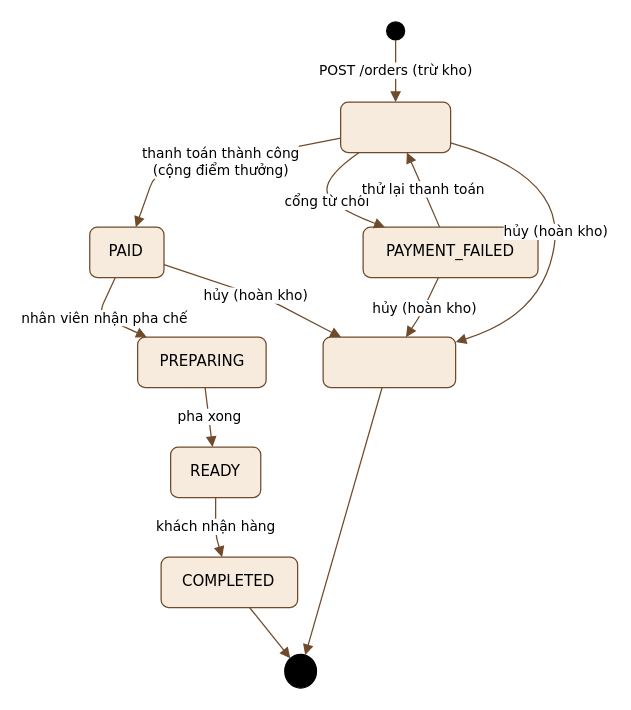
This 631x710 diagram has some shape labels left out. The centre of each missing label's shape, as x and y in pixels:
CANCELLED: [389,362]
PENDING: [395,126]
